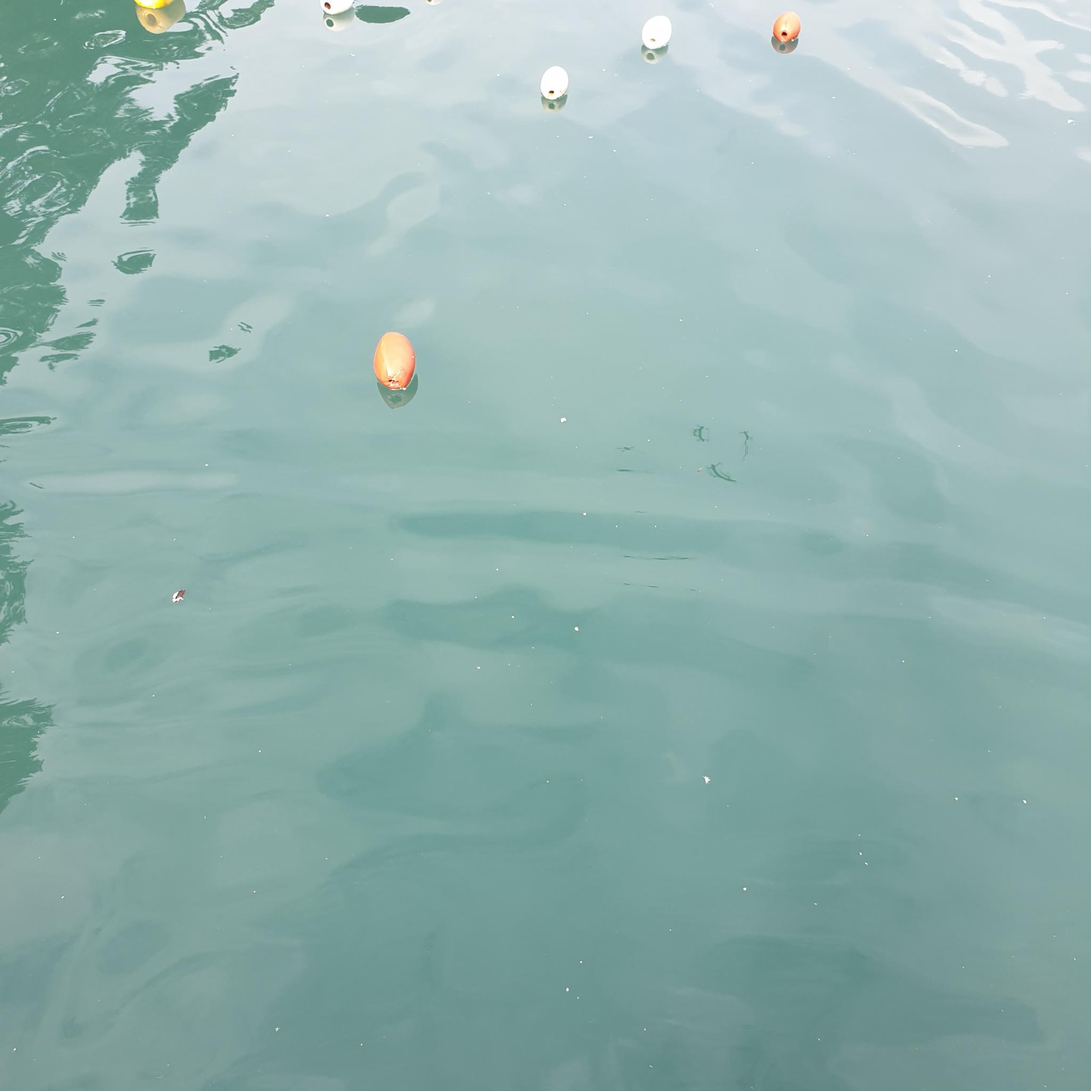sampah_terapung: (373, 332, 416, 391), (642, 16, 673, 51), (541, 66, 569, 100), (773, 12, 802, 42), (320, 1, 354, 16)
